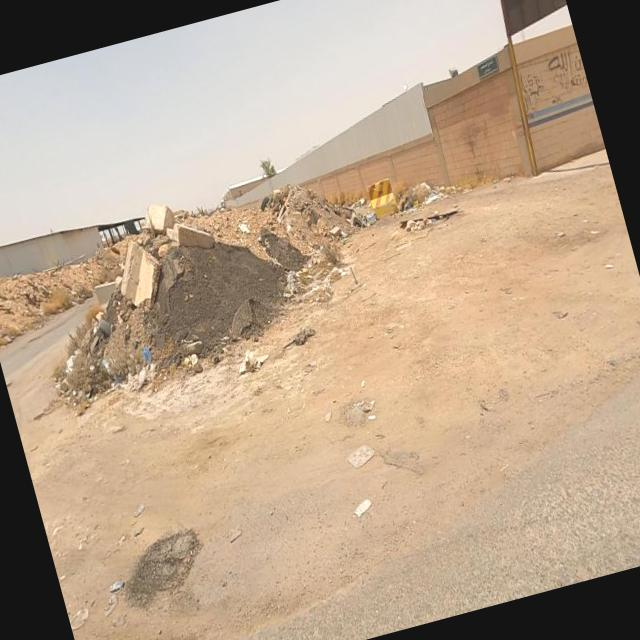debris: (282, 363, 428, 526), (72, 290, 210, 445), (19, 294, 135, 466), (200, 291, 310, 431), (84, 459, 186, 578), (73, 526, 169, 640), (48, 277, 140, 379), (366, 160, 451, 270), (252, 233, 340, 339), (306, 452, 396, 550), (246, 152, 322, 266), (386, 144, 474, 239), (329, 169, 397, 264), (211, 184, 270, 263)
